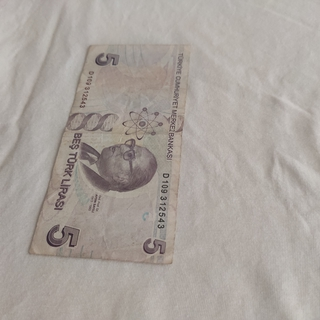5TLBack: (27, 43, 190, 265)
